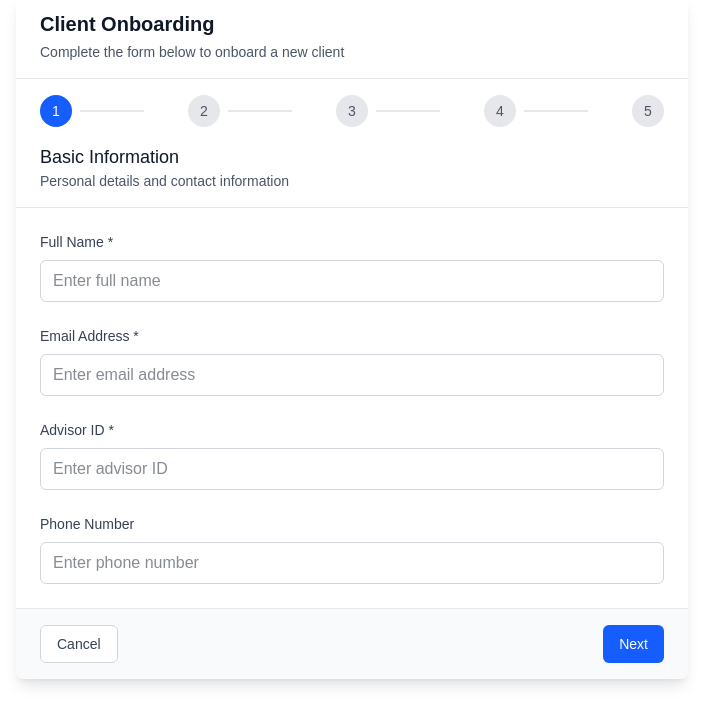
Test: Phase 3 Advanced Features › ClientOnboarding Component › allows going back to previous steps
// Fill and proceed to second step
Type "John Doe" into the field labelled "Full Name *" at (352, 281), box x1=40 y1=260 x2=664 y2=302
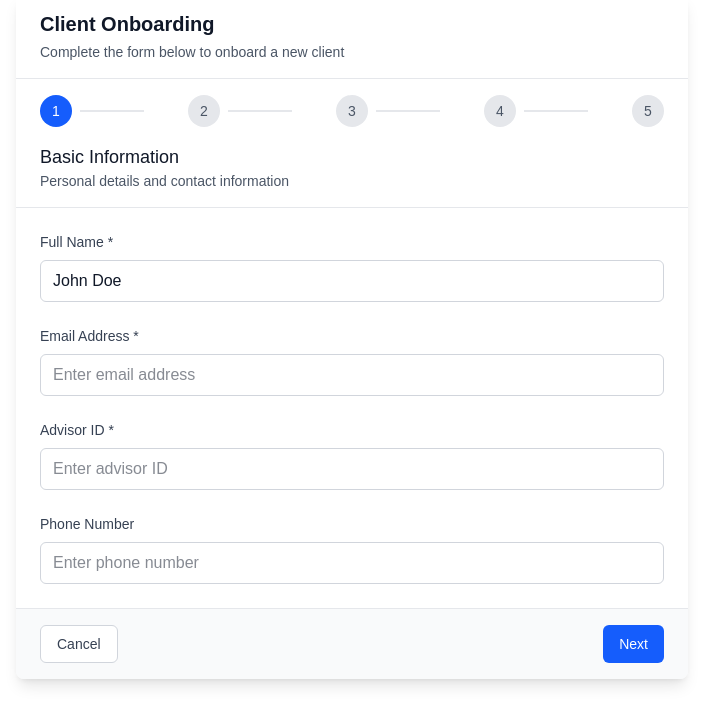
Type "john@example.com" into the field labelled "Email Address *" at (352, 375), box x1=40 y1=354 x2=664 y2=396
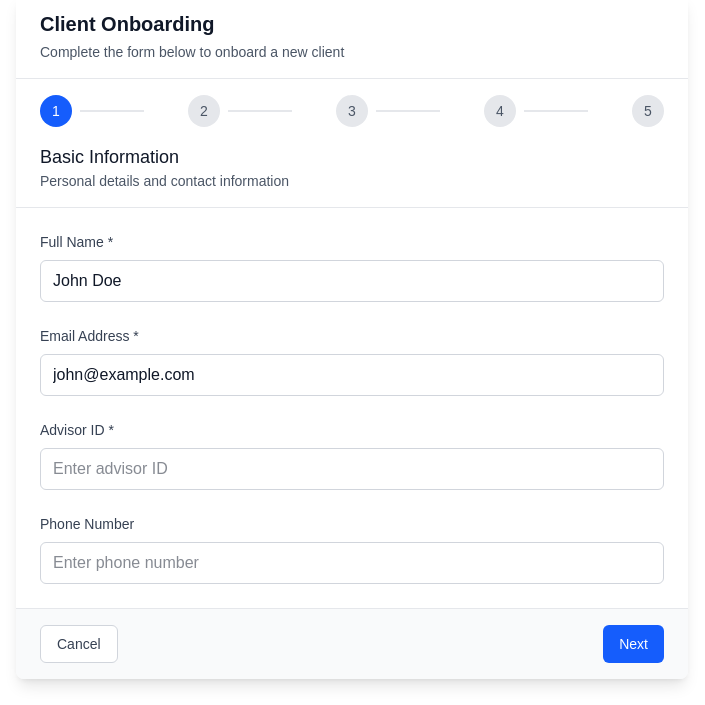
Type "A123" into the field labelled "Advisor ID *" at (352, 469), box x1=40 y1=448 x2=664 y2=490
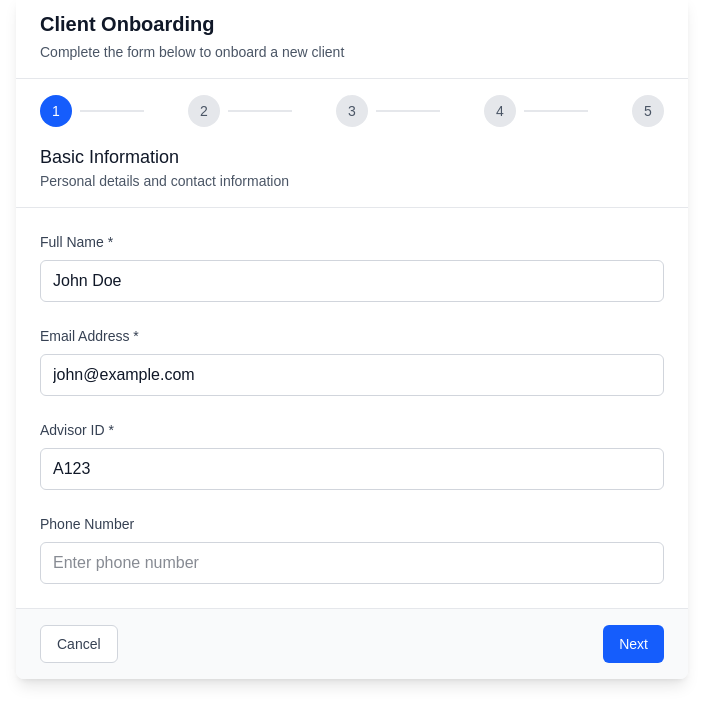
Click the button "Next" at (634, 644), box x1=603 y1=625 x2=664 y2=663
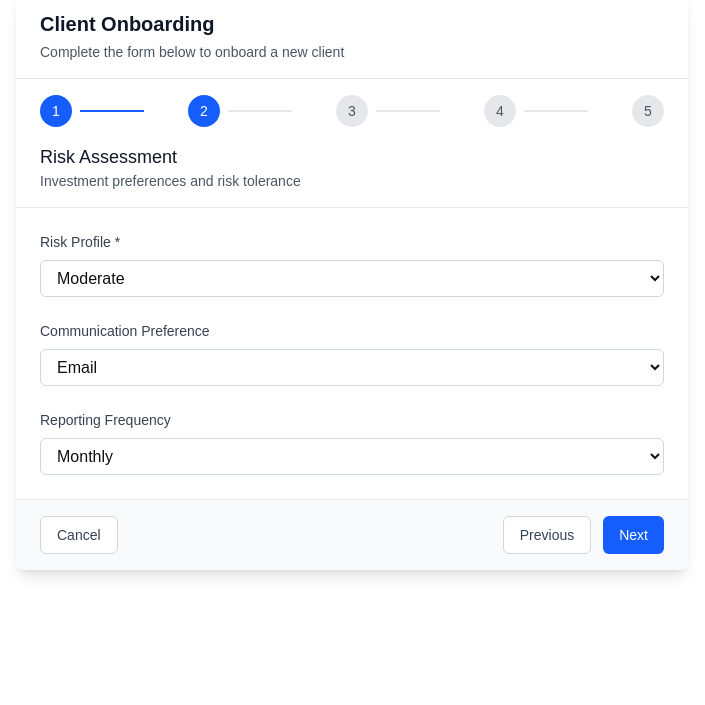
//  Go back
Click the button "Previous" at (547, 535), box x1=503 y1=516 x2=591 y2=554
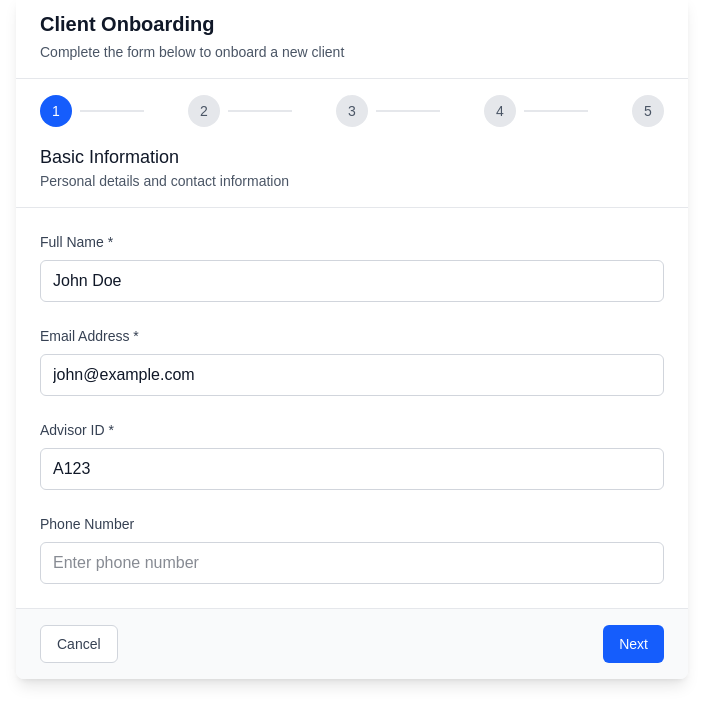
Now the heading "Basic Information" is shown, box x1=40 y1=147 x2=179 y2=167
